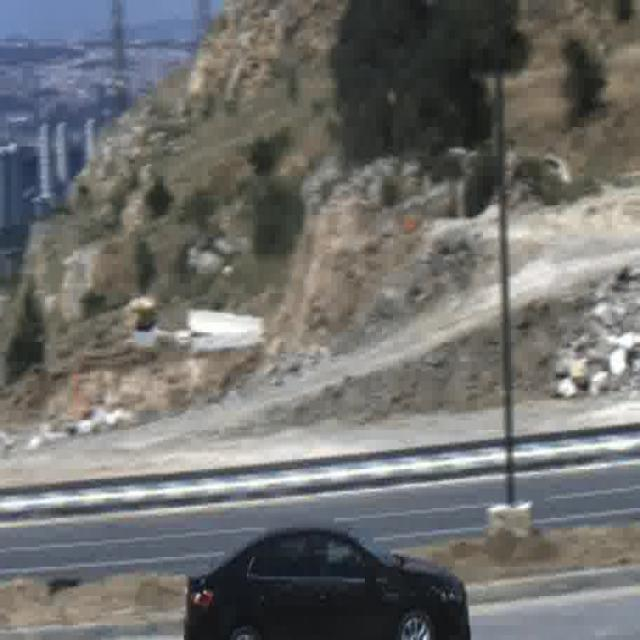Car: (182, 524, 468, 640)
